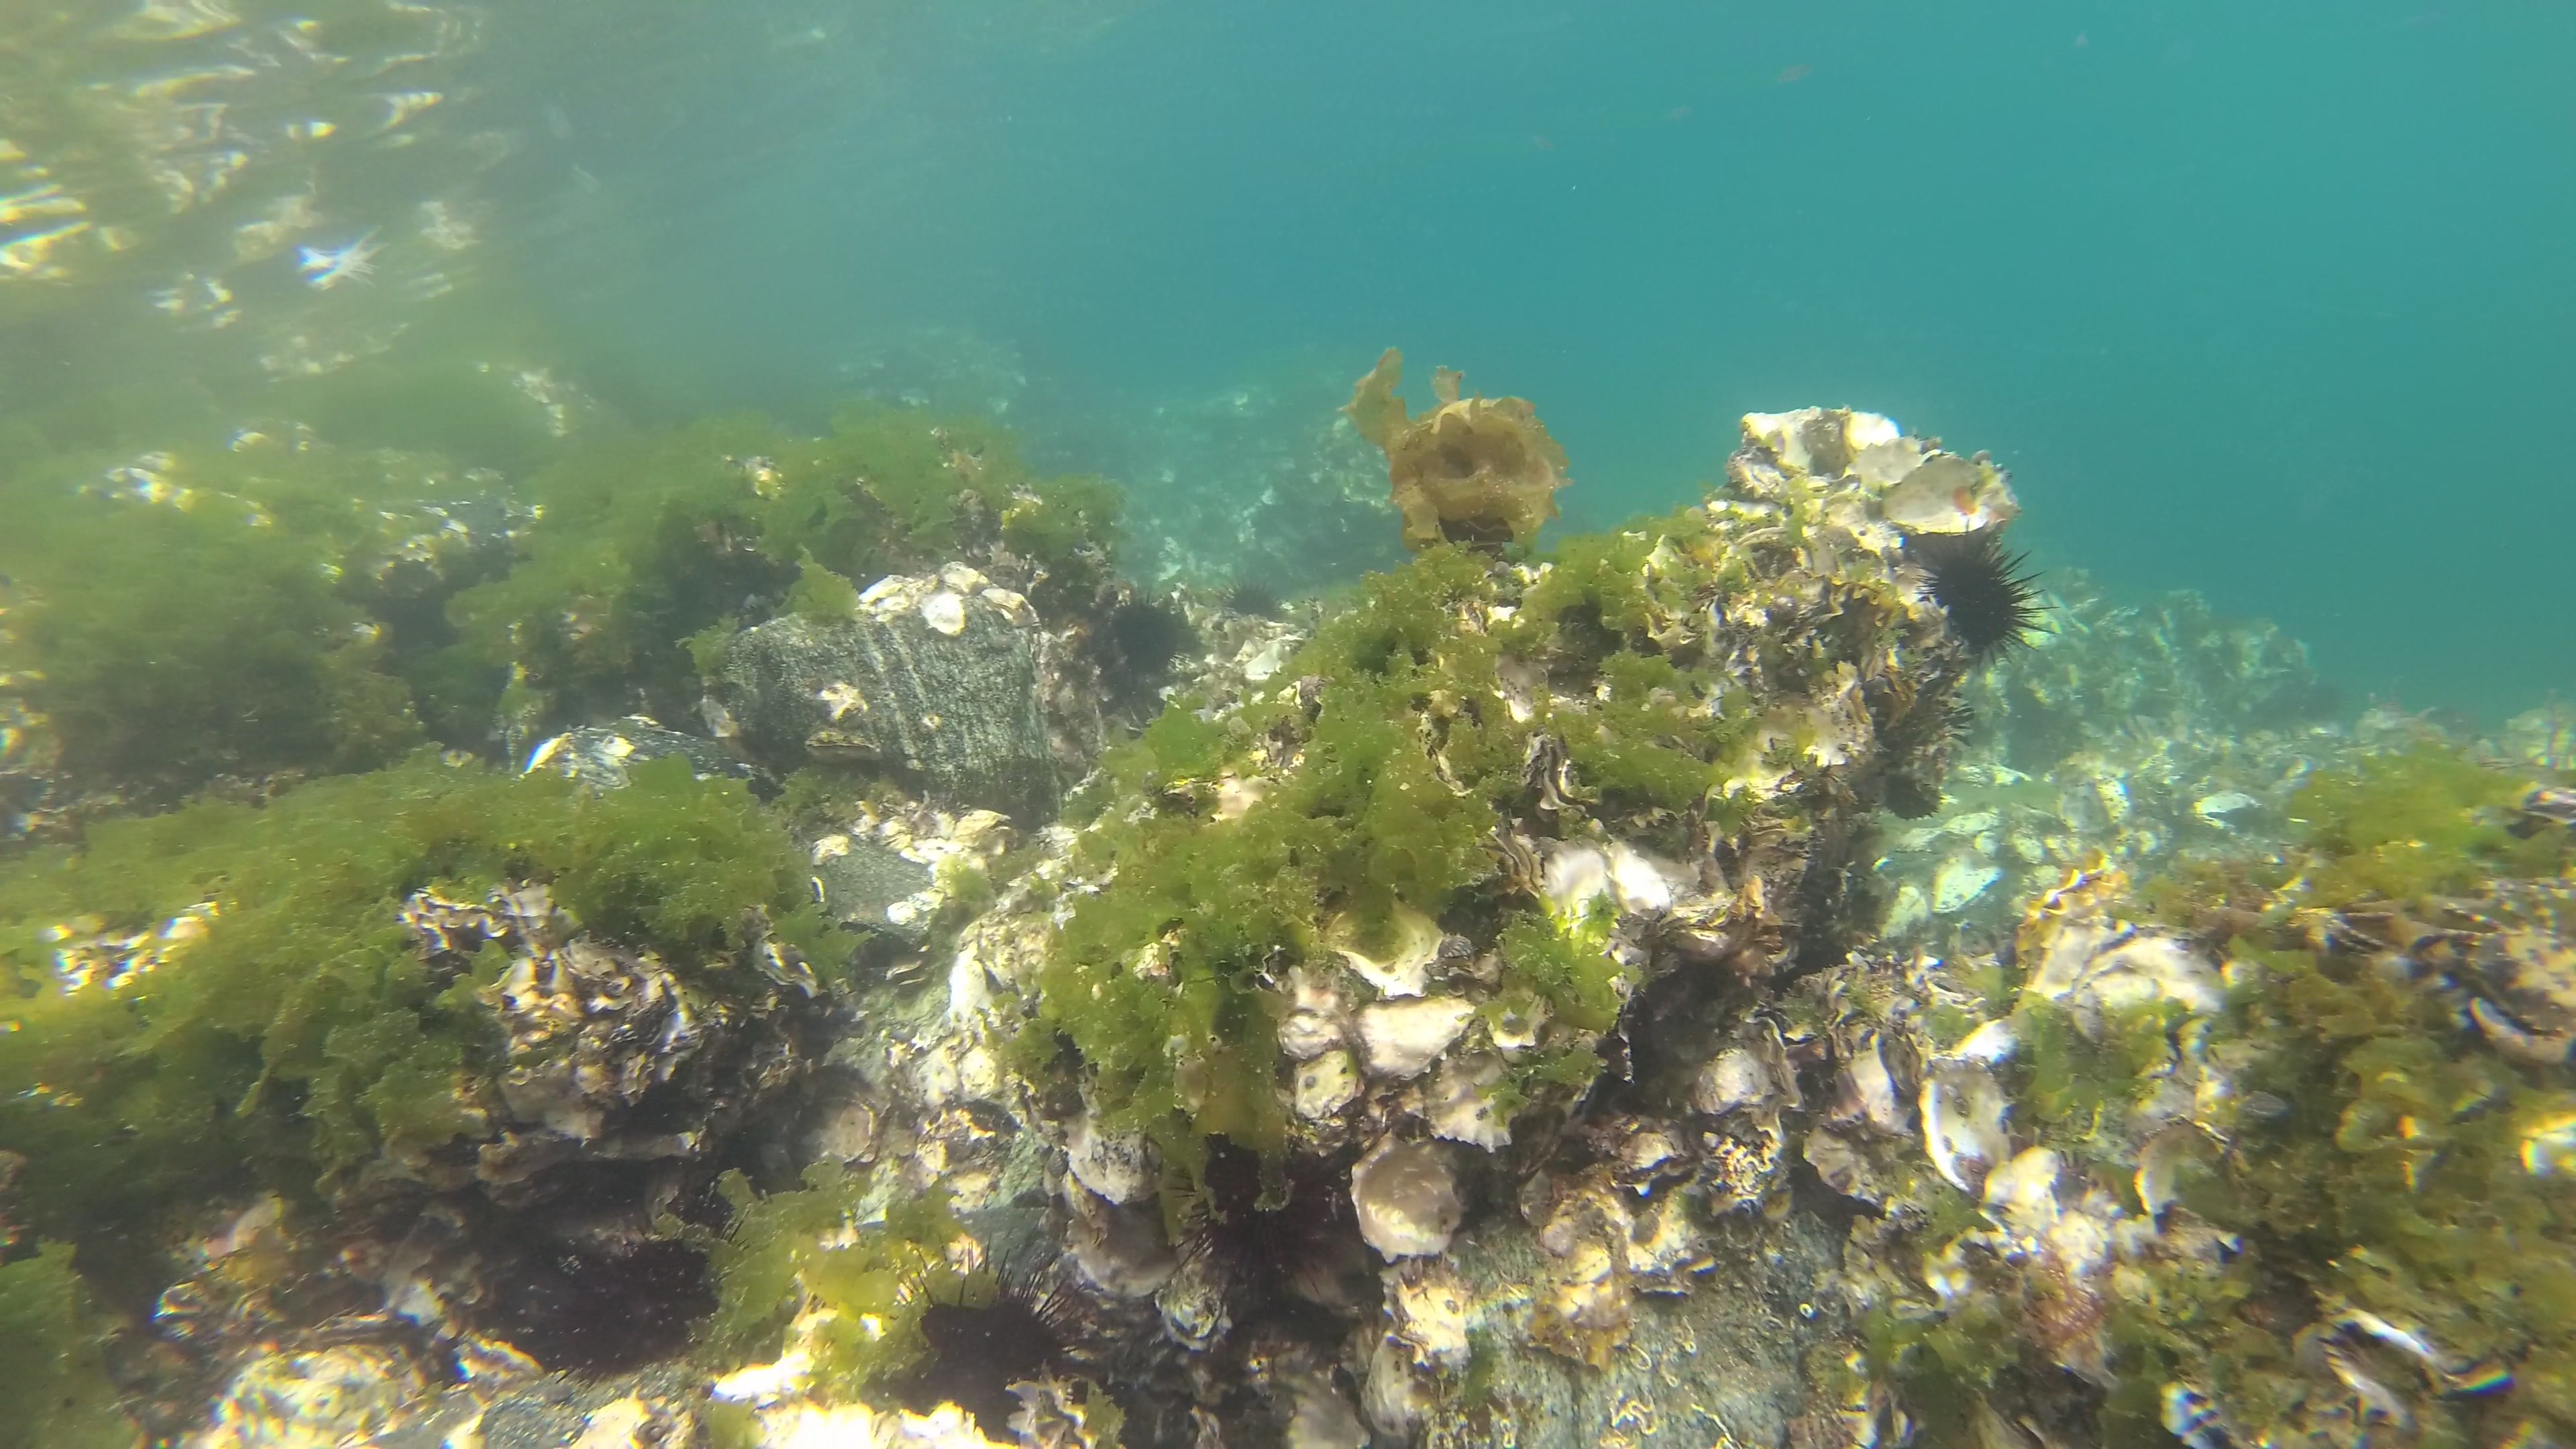echinus: (879, 1249, 1099, 1449), (1916, 518, 2054, 669), (1178, 1162, 1288, 1272), (1104, 594, 1196, 686), (1224, 575, 1288, 639)
